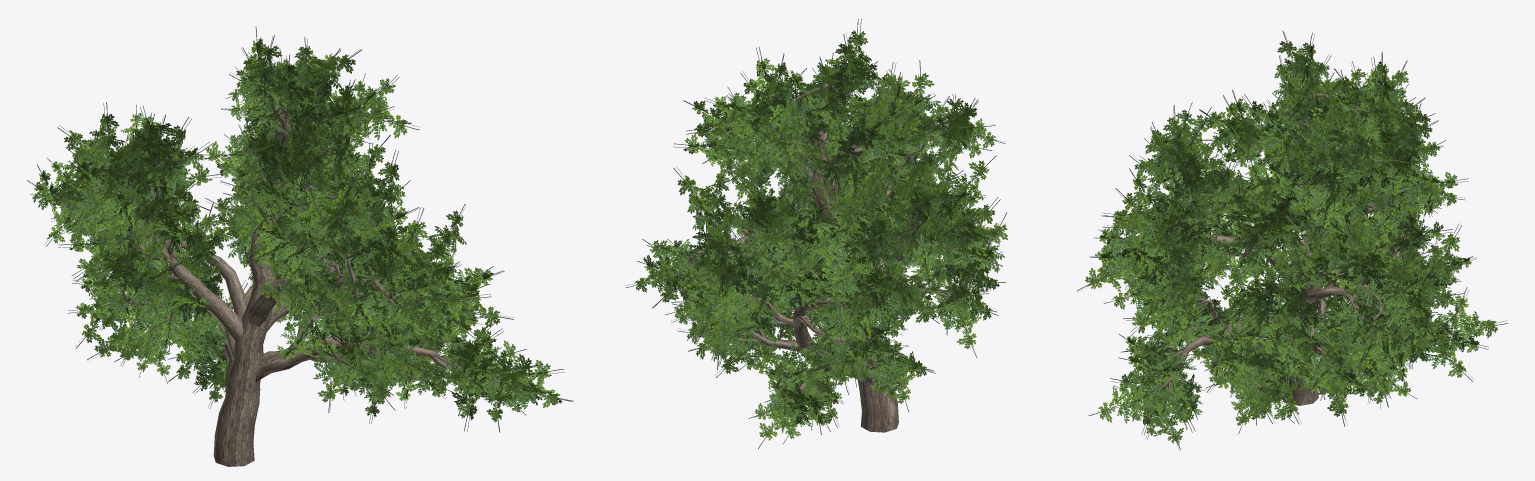
Rendered from eztree-boxelder-understory-c.glb.
3 renders of one model, left to right at view 1: azimuth 30°, elevation 25°; view 2: azimuth 150°, elevation 25°; view 3: azimuth 270°, elevation 25°, orthographic. The views are drawn at different scales.
Parts seen in each view (by area): view 1: eztree-boxelder-understory-c; view 2: eztree-boxelder-understory-c; view 3: eztree-boxelder-understory-c.
Part boxes in pixels (<box>): eztree-boxelder-understory-c: <box>27,26,573,466</box>; eztree-boxelder-understory-c: <box>626,19,1007,449</box>; eztree-boxelder-understory-c: <box>1077,30,1508,450</box>.
Bounding box in the file's own units: 34.8 × 33.5 × 35.9.
Materials: 2 (2 with a texture image).
